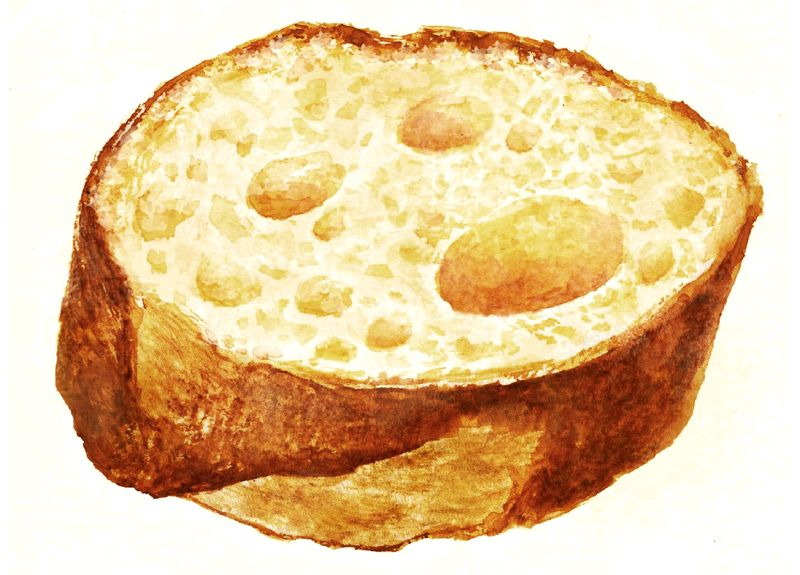slice of bread: (58, 22, 766, 535)
